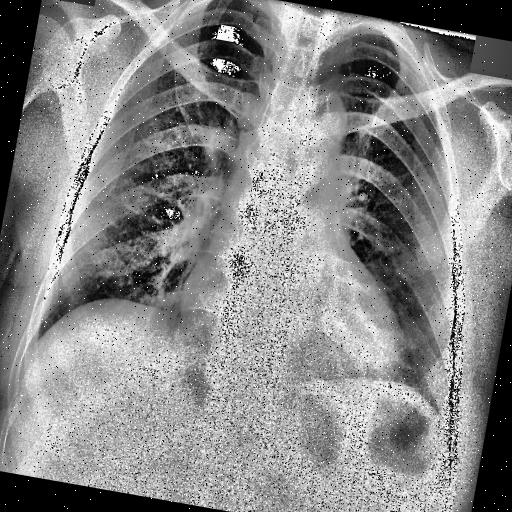3- Cardiomegaly: (169, 262, 416, 398), (175, 246, 418, 378), (170, 271, 416, 383)
